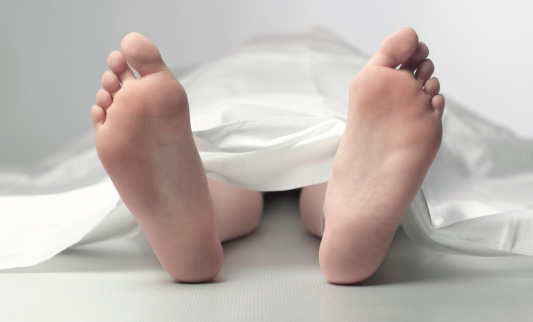deitado: (7, 5, 512, 253)
